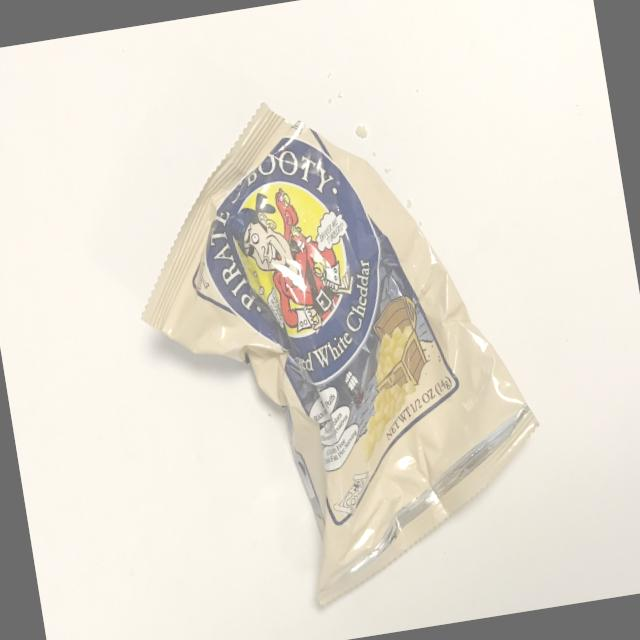Plastic: (96, 42, 586, 640)
